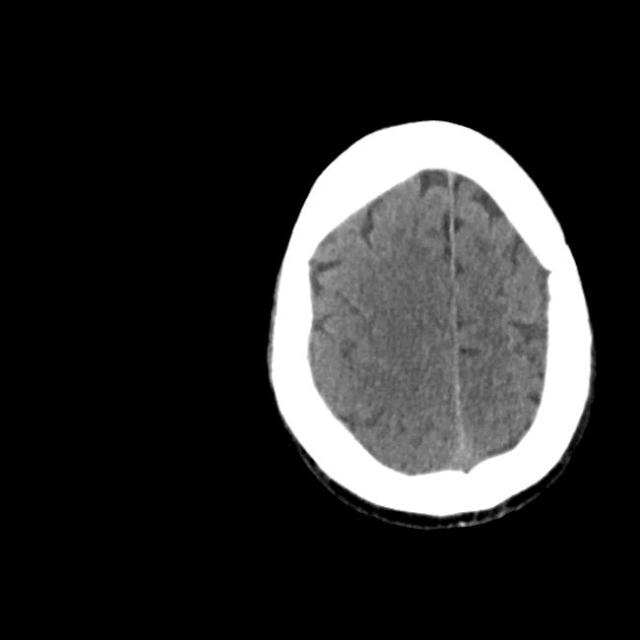lesion: (261, 114, 600, 533)
